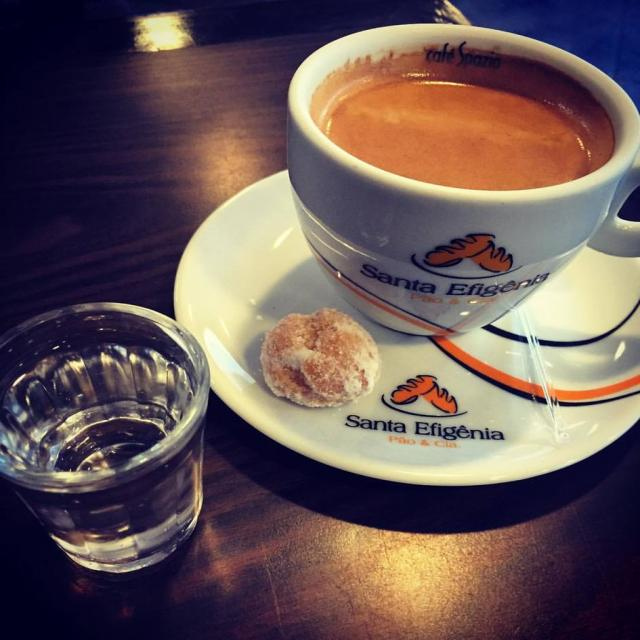Coffee: (293, 3, 633, 334)
Tea: (308, 46, 612, 192)
